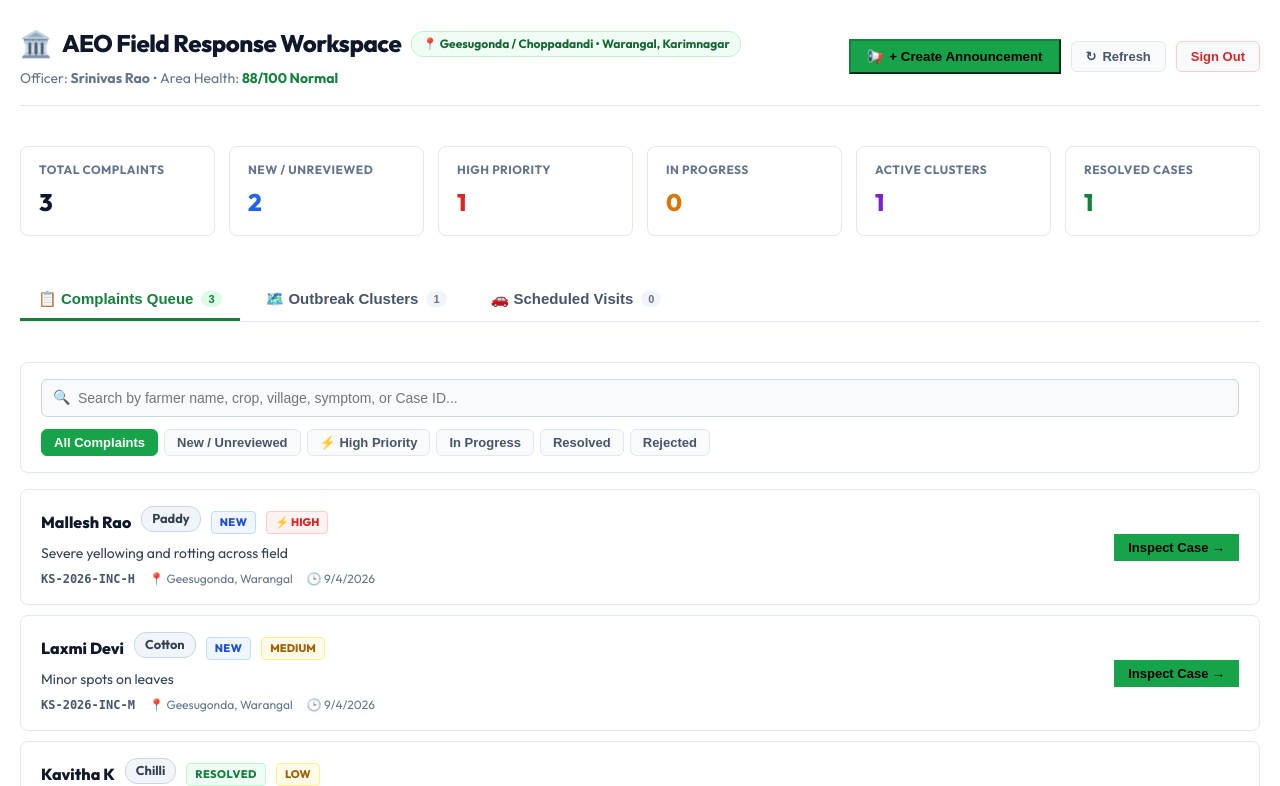
Scenario: AEO Dashboard Priority System › displays Priority: HIGH and "Why this priority?" reasons on incident details page
Click the button with test id "view-details-btn-inc-high-1". click: [1177, 547]
box: [1114,534,1239,561]
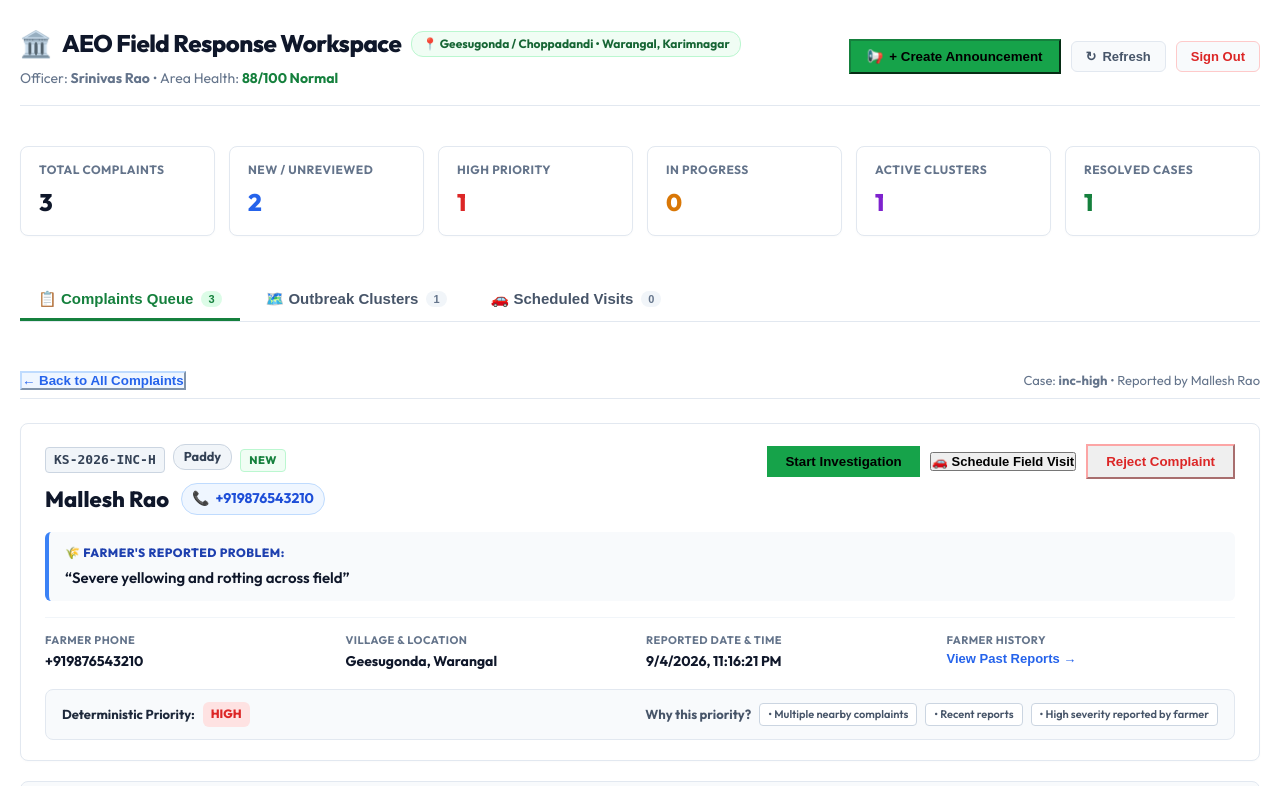
Result: the element with test id "detail-priority-card" is shown at [45,689,1235,740]
Result: the text with test id "detail-priority-value" reads "HIGH" at [211,706,242,721]
Result: the text "Why this priority?" is shown at [645,704,751,724]
